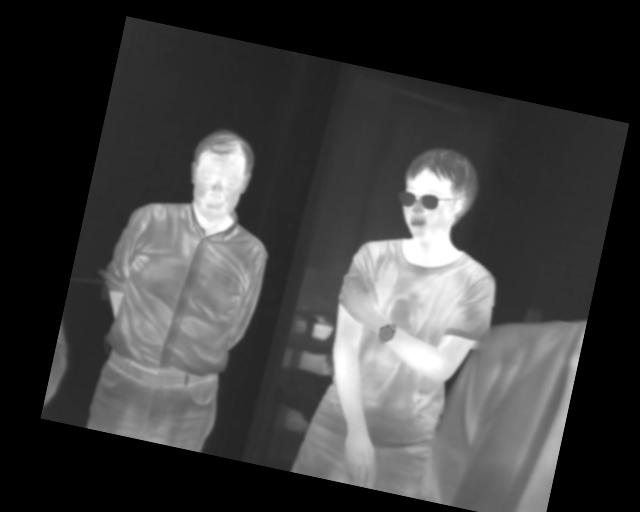face: (392, 140, 485, 250), (178, 121, 260, 227)
